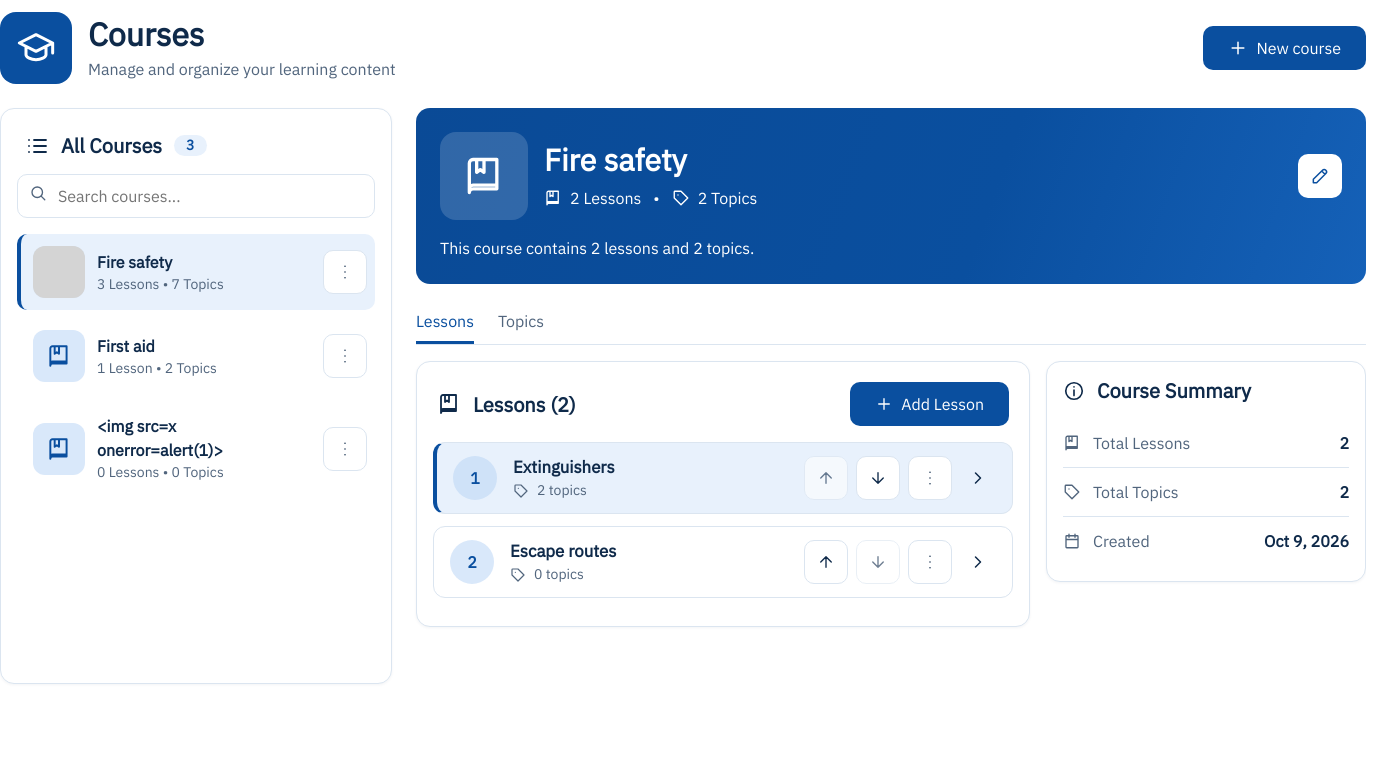
Scenario: CoursesPage › filters the list by what is typed
Type "first" into the search field named "Search courses in this list" at (196, 196), box [17,174,375,218]
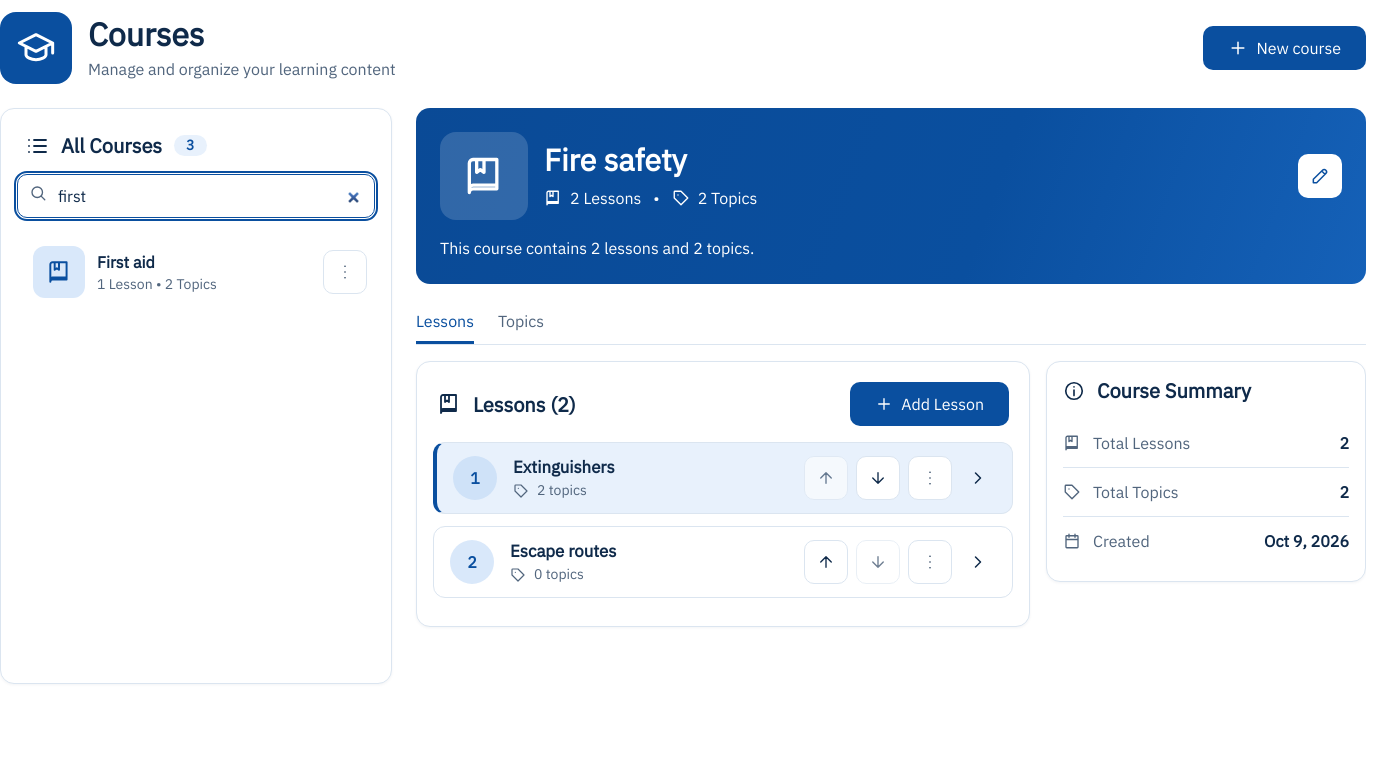
Expected: the button "First aid 1 Lesson • 2 Topics" is shown, [21,234,315,310]
Replace the text in the search field named "Search courses in this list" with "zzz" at (196, 196), box [17,174,375,218]
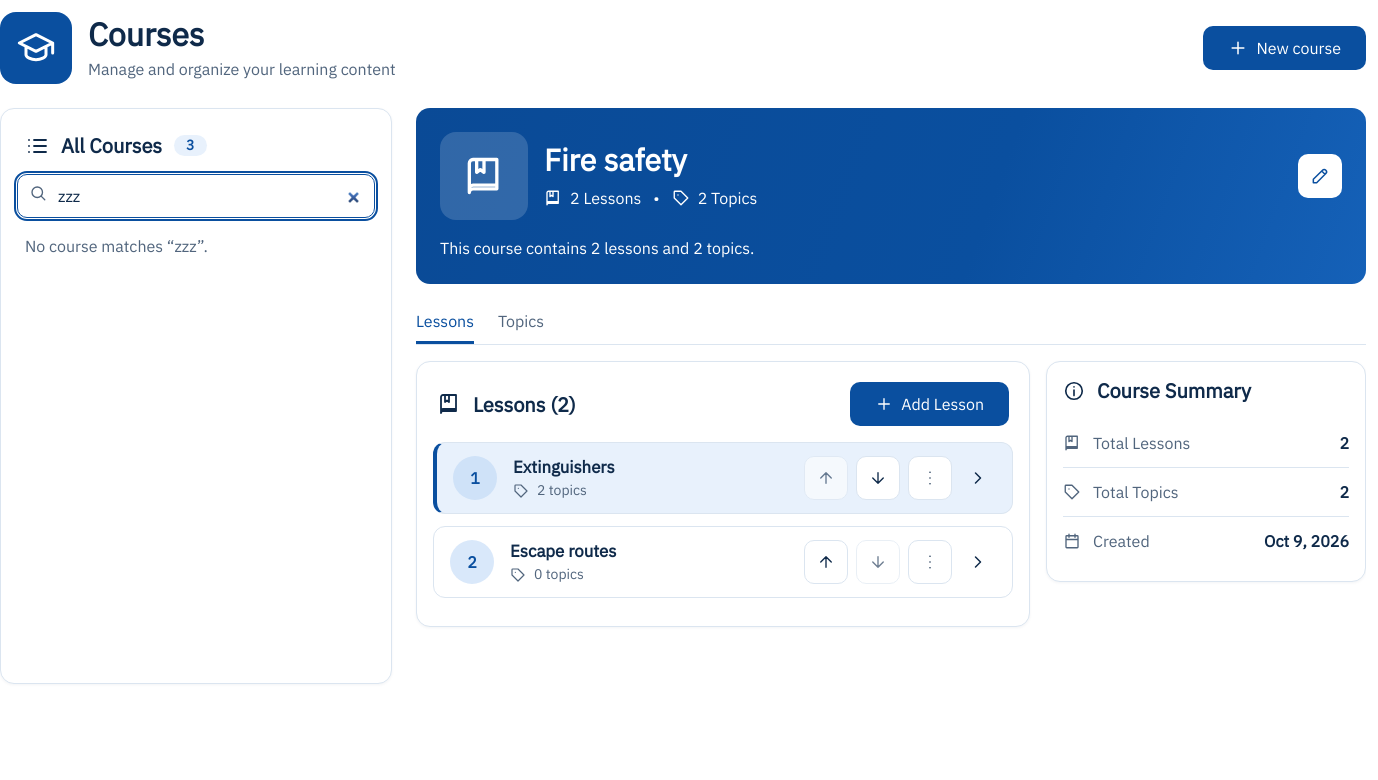
Now the text "No course matches “zzz”." is shown, box [25,236,208,256]
